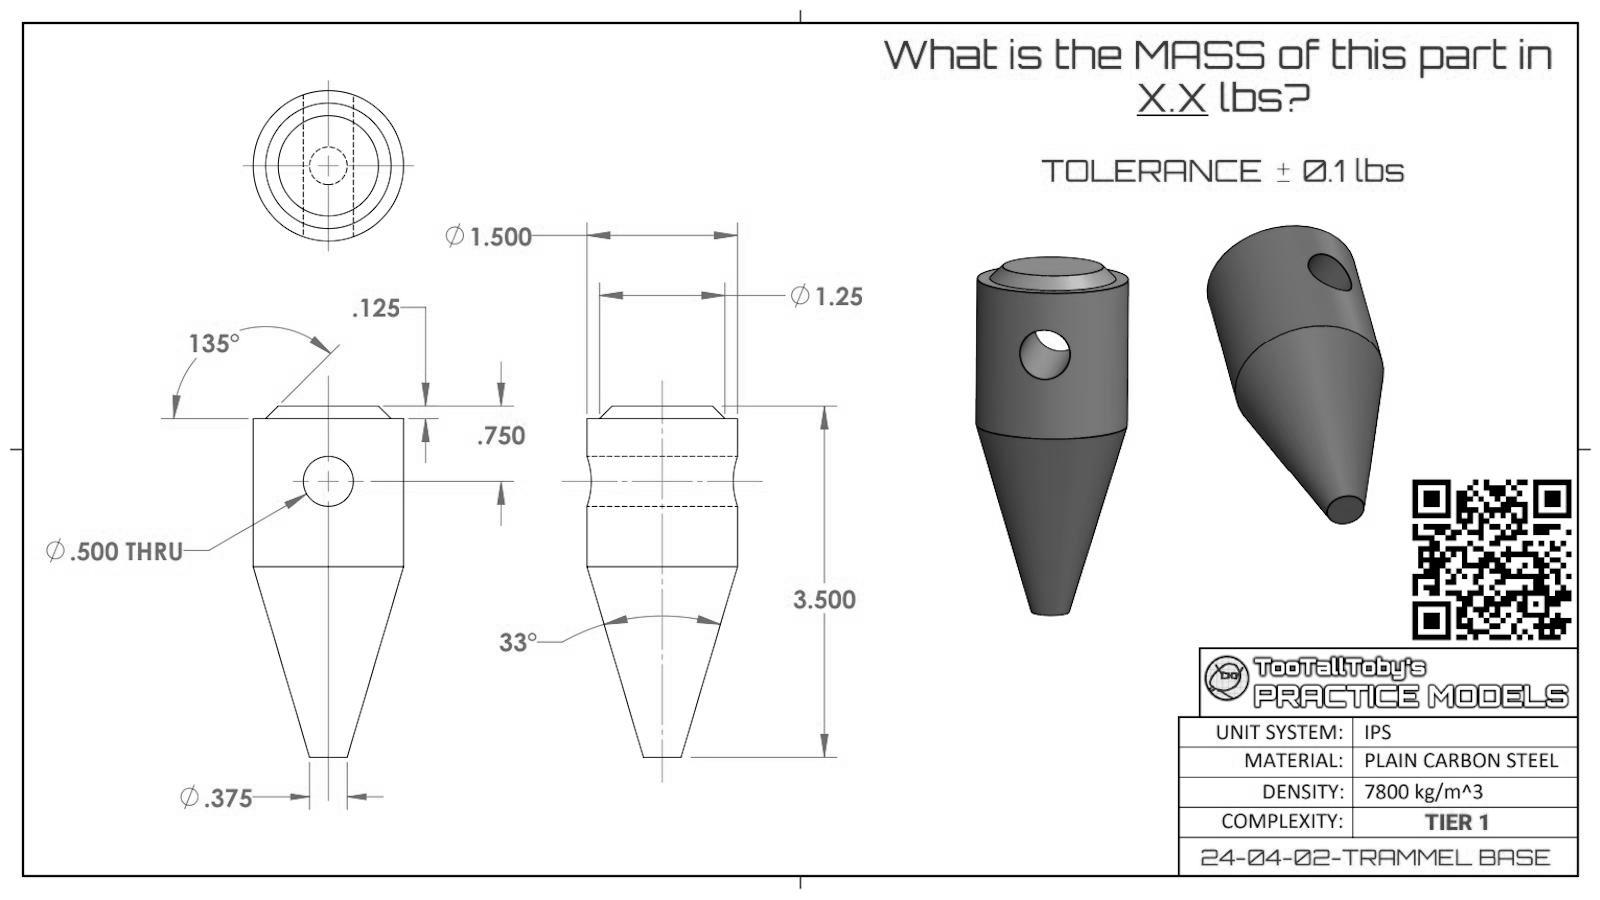-: (1276, 160, 1292, 184)
0: (1302, 158, 1327, 182), (511, 425, 527, 446), (104, 541, 120, 562), (504, 225, 519, 247), (90, 540, 104, 562), (518, 226, 532, 247), (843, 589, 857, 610), (827, 589, 842, 610), (1387, 782, 1399, 799), (1399, 784, 1410, 801)
1: (1333, 156, 1345, 185), (814, 286, 826, 308), (188, 332, 199, 355), (359, 298, 371, 319), (471, 225, 481, 247)
2: (373, 297, 387, 319), (835, 285, 849, 307)
3: (496, 632, 513, 654), (791, 589, 808, 610), (513, 631, 529, 653), (201, 332, 215, 355), (212, 787, 225, 811)
5: (76, 537, 90, 564), (387, 297, 401, 321), (497, 424, 512, 446), (216, 332, 230, 357), (237, 787, 252, 810), (491, 224, 504, 248), (814, 589, 827, 610), (849, 288, 865, 305)
7: (224, 787, 240, 809), (484, 424, 498, 445), (1364, 782, 1375, 801)
8: (1375, 784, 1387, 800)
Coma: (67, 554, 77, 565), (1326, 175, 1335, 186), (481, 241, 491, 248), (807, 602, 814, 612), (351, 312, 359, 320), (477, 438, 485, 447), (203, 801, 211, 810), (827, 300, 834, 308), (1169, 105, 1176, 113)
Degrees: (230, 332, 242, 344), (527, 631, 537, 643)
Density: (1262, 781, 1346, 802)
Diameter: (443, 221, 467, 249), (176, 785, 199, 813), (789, 281, 811, 310), (45, 537, 67, 564)
IPS: (1363, 723, 1393, 742)
Material: (1244, 751, 1344, 770)
PlainCarbonSteel: (1365, 752, 1560, 771)
Thru: (122, 540, 184, 563)
UnitSystem: (1213, 722, 1345, 742)
X: (1178, 79, 1209, 113), (1136, 80, 1165, 112)
lbs: (1218, 78, 1287, 113), (1353, 155, 1408, 184)
